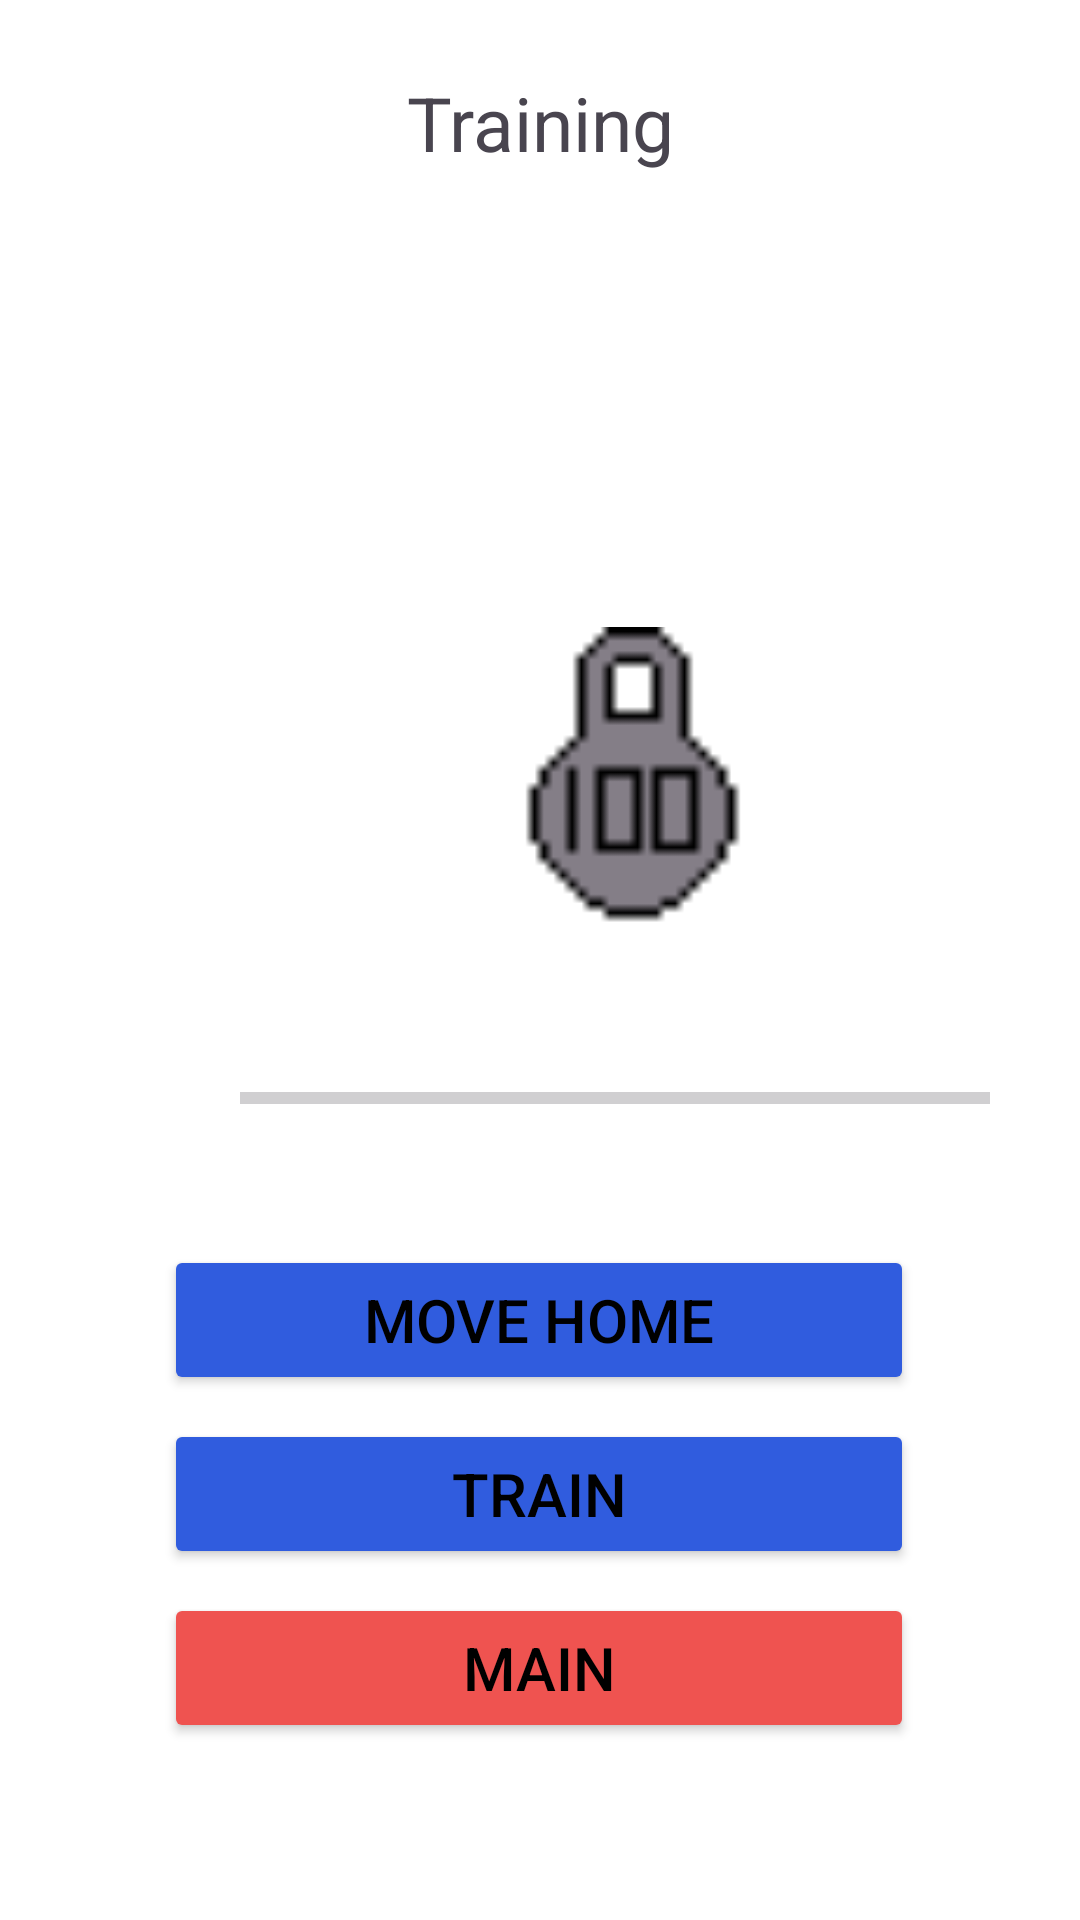

Icons on this 1080×1920 Android screen, each with the point to tap as (x=x, y=y):
training: (x=633, y=774)
